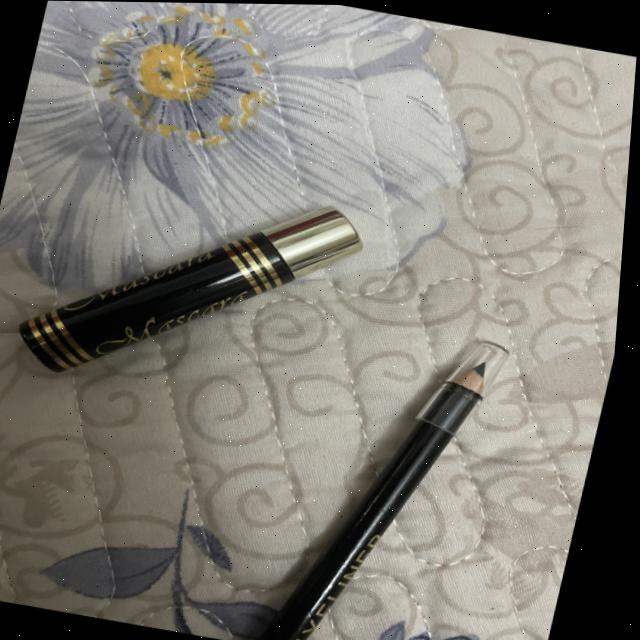eye liner: (221, 289, 547, 640)
mascara: (3, 150, 402, 439)
